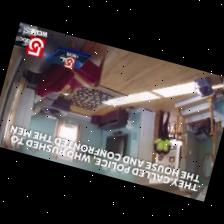person: (153, 110, 170, 160)
